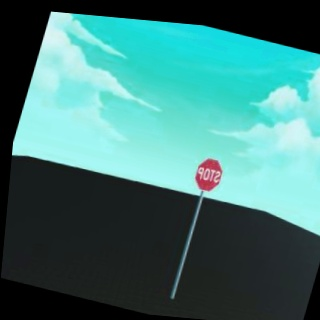STOP: (190, 155, 226, 195)
